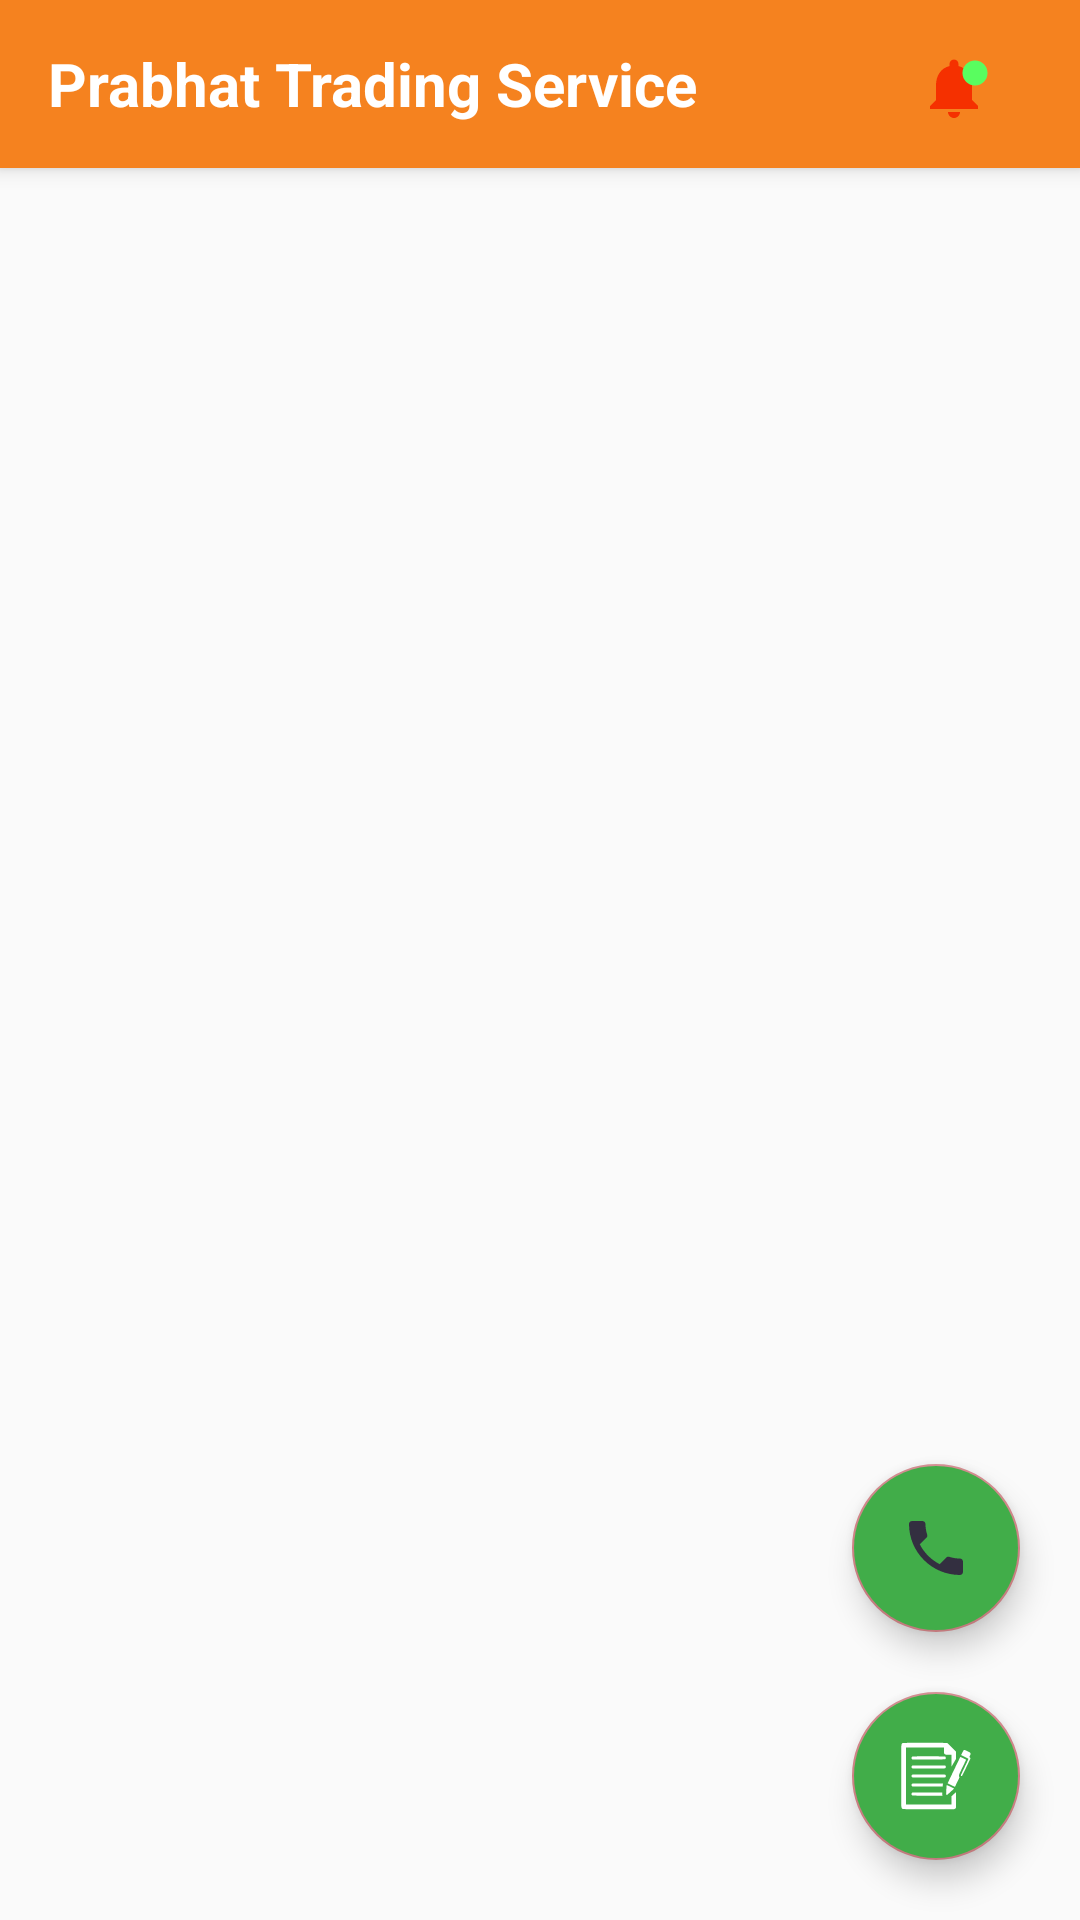

Screen size 1080px×1920px. Icon name, then its center in pixels as (x,y):
inquiry: (936,1776)
phone: (936,1548)
